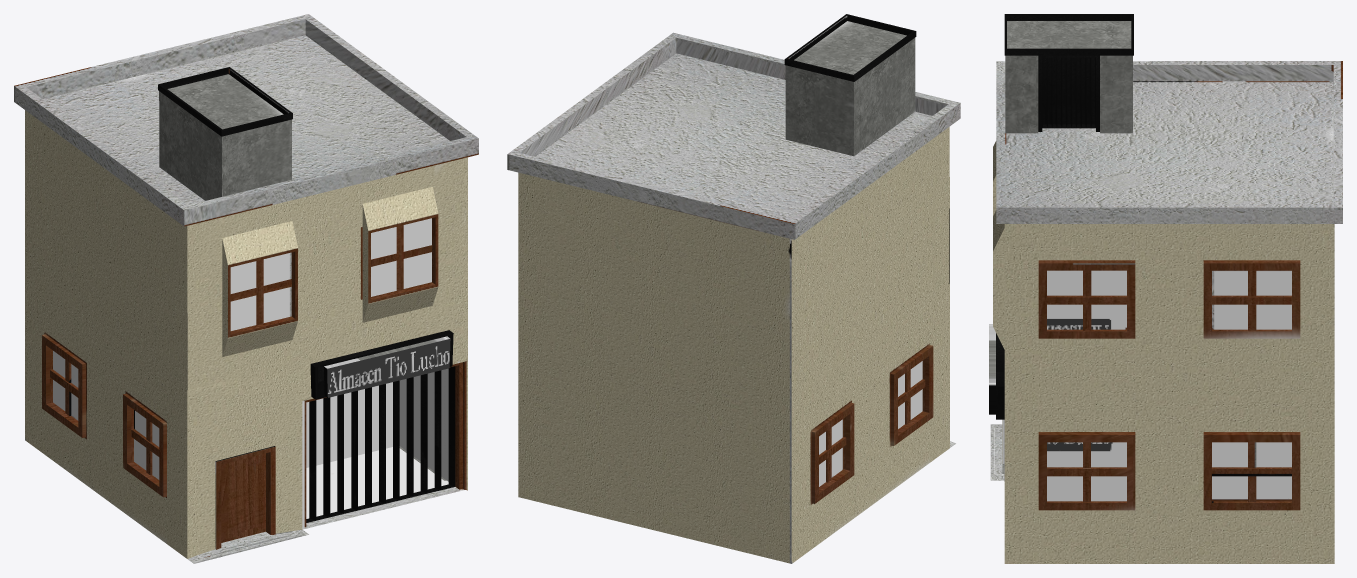
The model's file is CasaPanadero.fbx.
The picture shows the model from 3 angles, left to right: view 1: azimuth 30°, elevation 25°; view 2: azimuth 150°, elevation 25°; view 3: azimuth 270°, elevation 25°; orthographic projection. The views are drawn at different scales.
Parts seen in each view (by area): view 1: building_029; view 2: building_029; view 3: building_029.
Boxes of the visible parts, x1=… form: building_029: x1=14, y1=14, x2=478, y2=563; building_029: x1=507, y1=14, x2=960, y2=563; building_029: x1=989, y1=14, x2=1342, y2=563.
Size of the model in its own units: 420 by 572 by 429.
